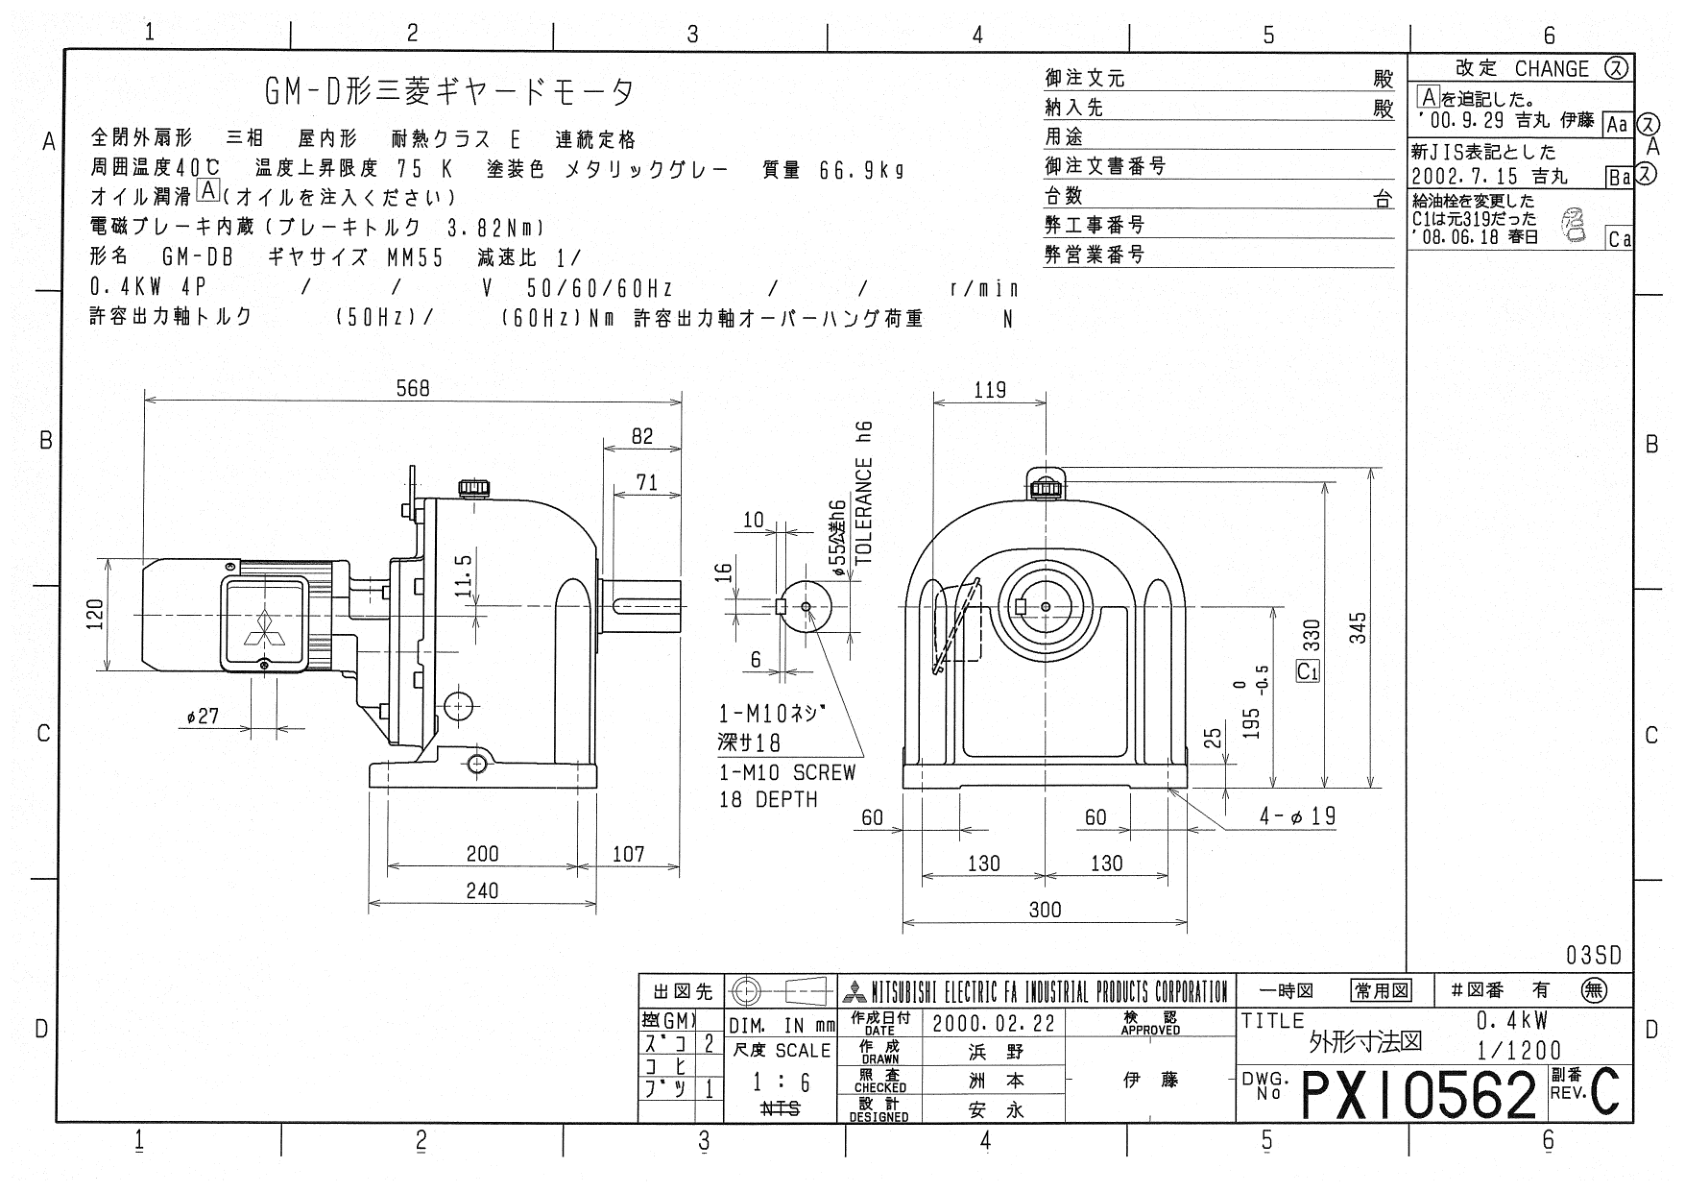GM_D_屋内＿三相_脚: (72, 353, 1399, 955)
